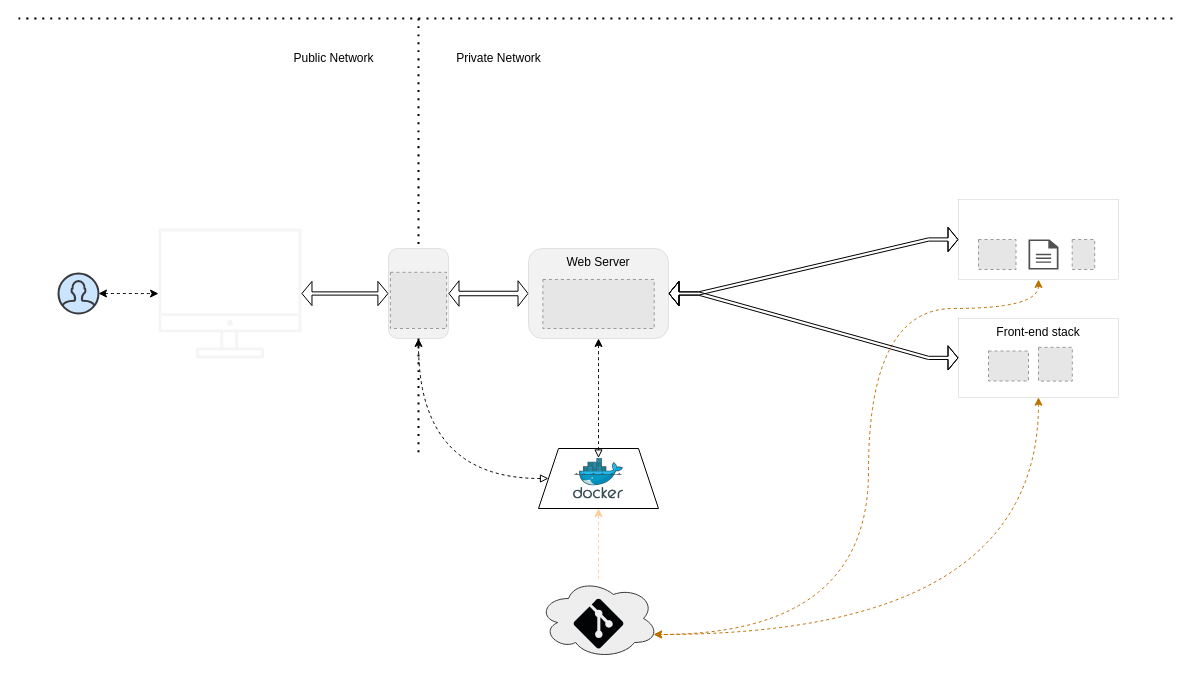
Image size: 1197x676. Some labels were removed from this diagram. Grey dashed boxes stand in for pictures. The box of each missing label's shape, as (x1, y1, x2, y2) in pixels:
Assets images, svgs, videos. etc: (958, 199, 1118, 279)
Proxy: (388, 248, 448, 338)
